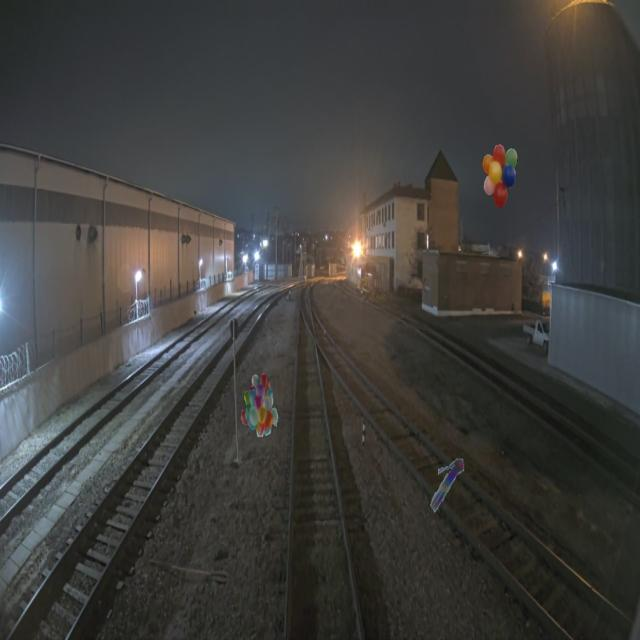balloon: (241, 372, 278, 437), (482, 144, 518, 208)
floating object: (429, 454, 465, 518)
